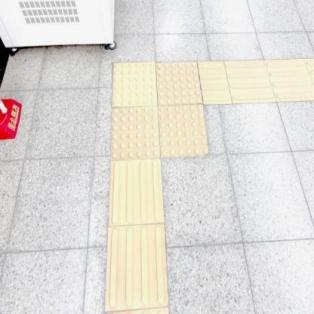Podoctatil: (74, 28, 242, 223), (106, 158, 169, 314), (205, 61, 313, 104)
